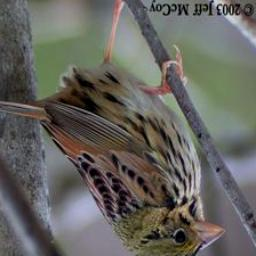Sparrow: (0, 0, 227, 256)
